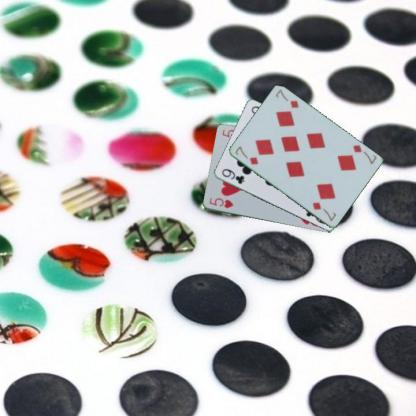5h: (206, 195, 235, 210)
7d: (232, 143, 260, 166), (350, 142, 378, 165)
9c: (219, 166, 246, 185)
